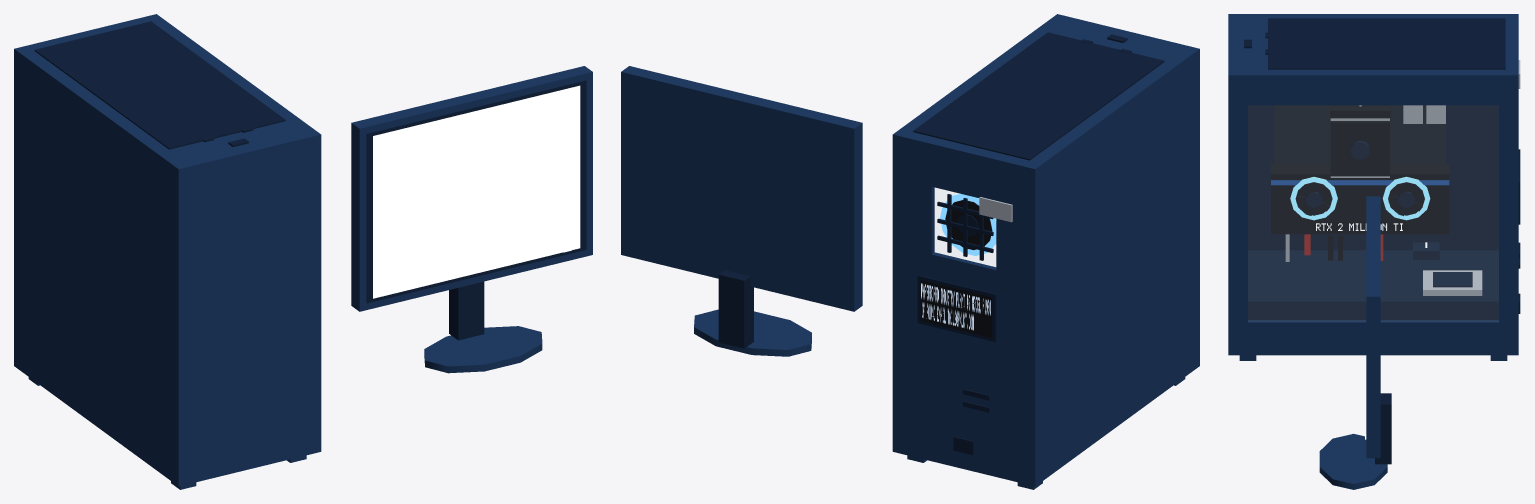
File: battlestation.glb
3 renders of one model, left to right at view 1: azimuth 30°, elevation 25°; view 2: azimuth 150°, elevation 25°; view 3: azimuth 270°, elevation 25°, orthographic. The views are drawn at different scales.
Parts seen in each view (by area): view 1: leftSide, monscreen, frontPanel, filter, monbody, top, frontBottom, frontTop, monfoot, monbezel, frontLeft, frontRight (+5 smaller); view 2: leftSide, monbody, backBottom, filter, top, backTop, monfoot, labeltext, backRight, backLeft, monneck, bottom (+6 smaller); view 3: glass, psu, tray, filter, railBottom, top, railTop, gpu, mobo, monbody, railBack, railFront (+21 smaller).
Boxes of the visible parts, x1=… form: leftSide: x1=14, y1=56, x2=183, y2=485; monscreen: x1=373, y1=85, x2=580, y2=298; frontPanel: x1=195, y1=195, x2=304, y2=424; filter: x1=34, y1=21, x2=285, y2=149; monbody: x1=351, y1=66, x2=592, y2=311; top: x1=14, y1=15, x2=321, y2=174; frontBottom: x1=175, y1=394, x2=321, y2=486; frontTop: x1=175, y1=132, x2=321, y2=225; monfoot: x1=424, y1=326, x2=542, y2=373; monbezel: x1=366, y1=80, x2=586, y2=303; frontLeft: x1=175, y1=221, x2=194, y2=428; frontRight: x1=305, y1=191, x2=321, y2=397; leftSide: x1=1030, y1=52, x2=1199, y2=485; monbody: x1=621, y1=66, x2=862, y2=311; backBottom: x1=892, y1=245, x2=1038, y2=485; filter: x1=913, y1=32, x2=1164, y2=160; top: x1=892, y1=15, x2=1199, y2=174; backTop: x1=892, y1=132, x2=1038, y2=211; monfoot: x1=694, y1=309, x2=811, y2=356; labeltext: x1=920, y1=280, x2=991, y2=337; backRight: x1=892, y1=177, x2=934, y2=254; backLeft: x1=996, y1=206, x2=1038, y2=279; monneck: x1=718, y1=270, x2=753, y2=348; bottom: x1=892, y1=361, x2=1199, y2=486; glass: x1=1248, y1=106, x2=1498, y2=320; psu: x1=1248, y1=250, x2=1498, y2=320; tray: x1=1248, y1=105, x2=1498, y2=250; filter: x1=1268, y1=18, x2=1505, y2=69; railBottom: x1=1228, y1=320, x2=1518, y2=355; top: x1=1228, y1=14, x2=1518, y2=80; railTop: x1=1229, y1=75, x2=1518, y2=105; gpu: x1=1271, y1=163, x2=1449, y2=234; mobo: x1=1274, y1=105, x2=1445, y2=163; monbody: x1=1366, y1=196, x2=1380, y2=458; railBack: x1=1499, y1=105, x2=1518, y2=322; railFront: x1=1228, y1=105, x2=1247, y2=322.
Size of the model in its own units: 7.6 by 4.86 by 4.43.
14 materials, 2 textured.
